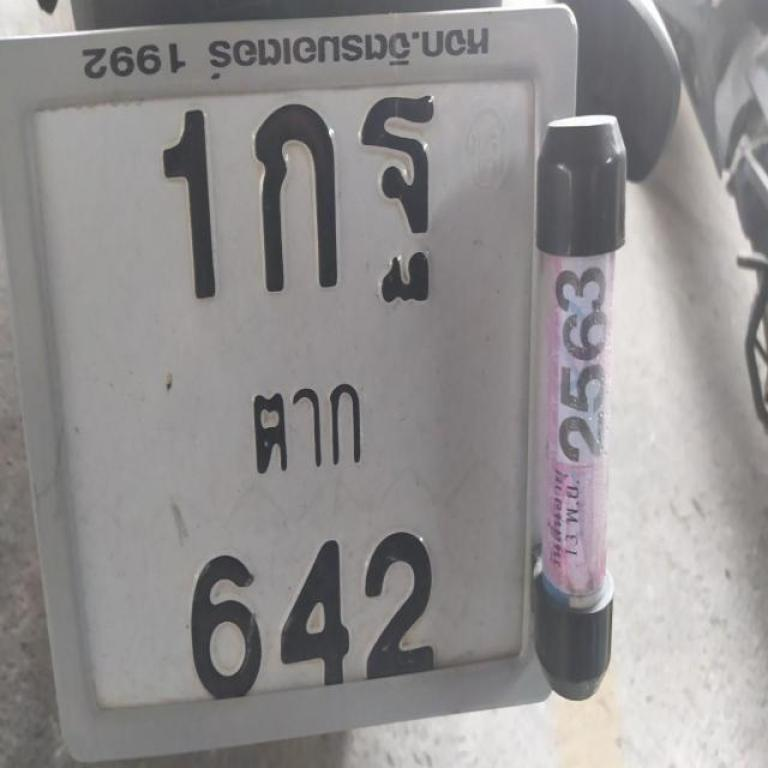license plate: (0, 0, 578, 768)
